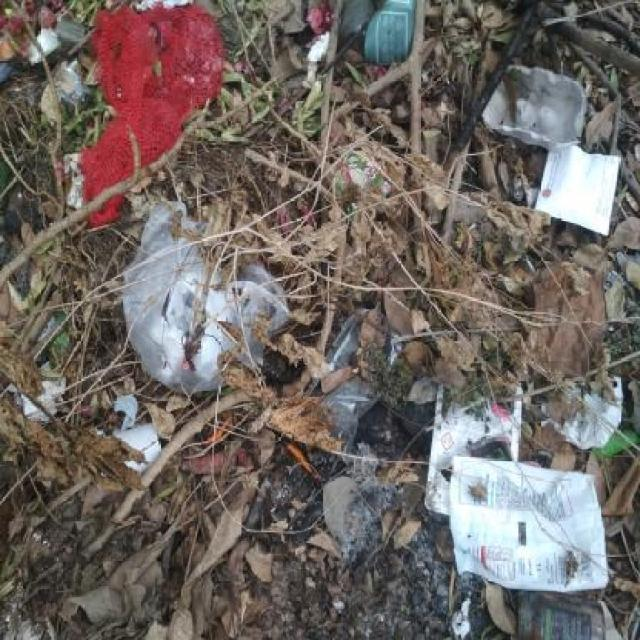garbage: (2, 0, 636, 638)
